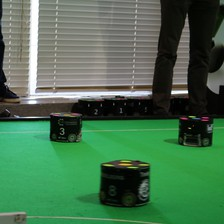robot: (97, 155, 154, 208), (176, 111, 216, 148), (47, 108, 84, 145), (124, 95, 150, 116), (78, 95, 103, 116), (103, 95, 126, 116), (173, 96, 190, 113)
